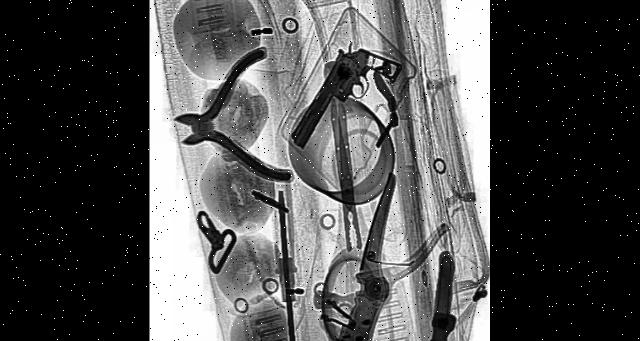Gun: (292, 0, 401, 205)
Pliers: (171, 42, 290, 198)
